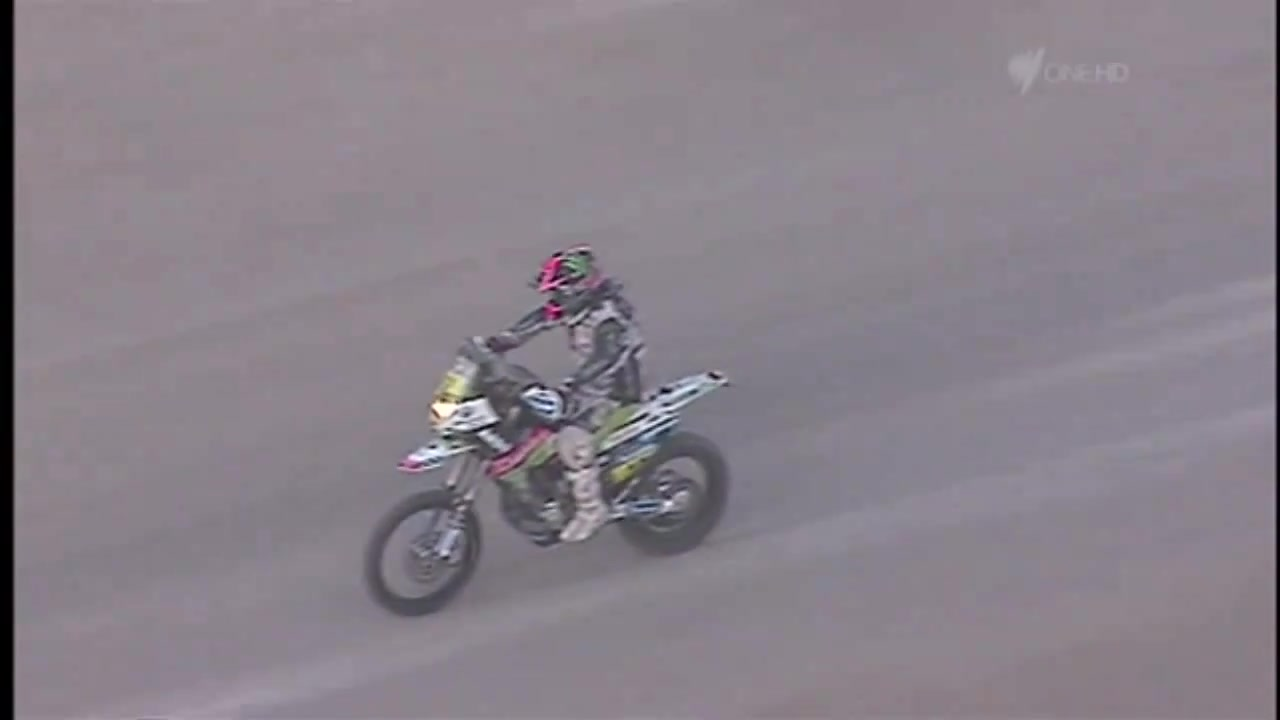motorbike: (359, 336, 738, 620)
